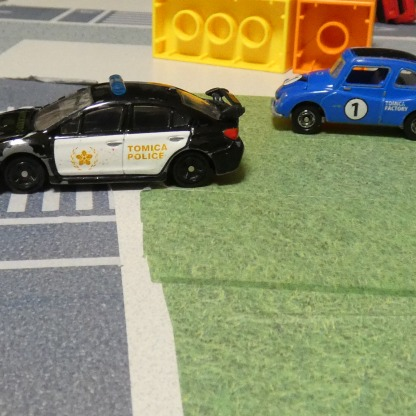car: (0, 76, 243, 191), (277, 44, 416, 142)
